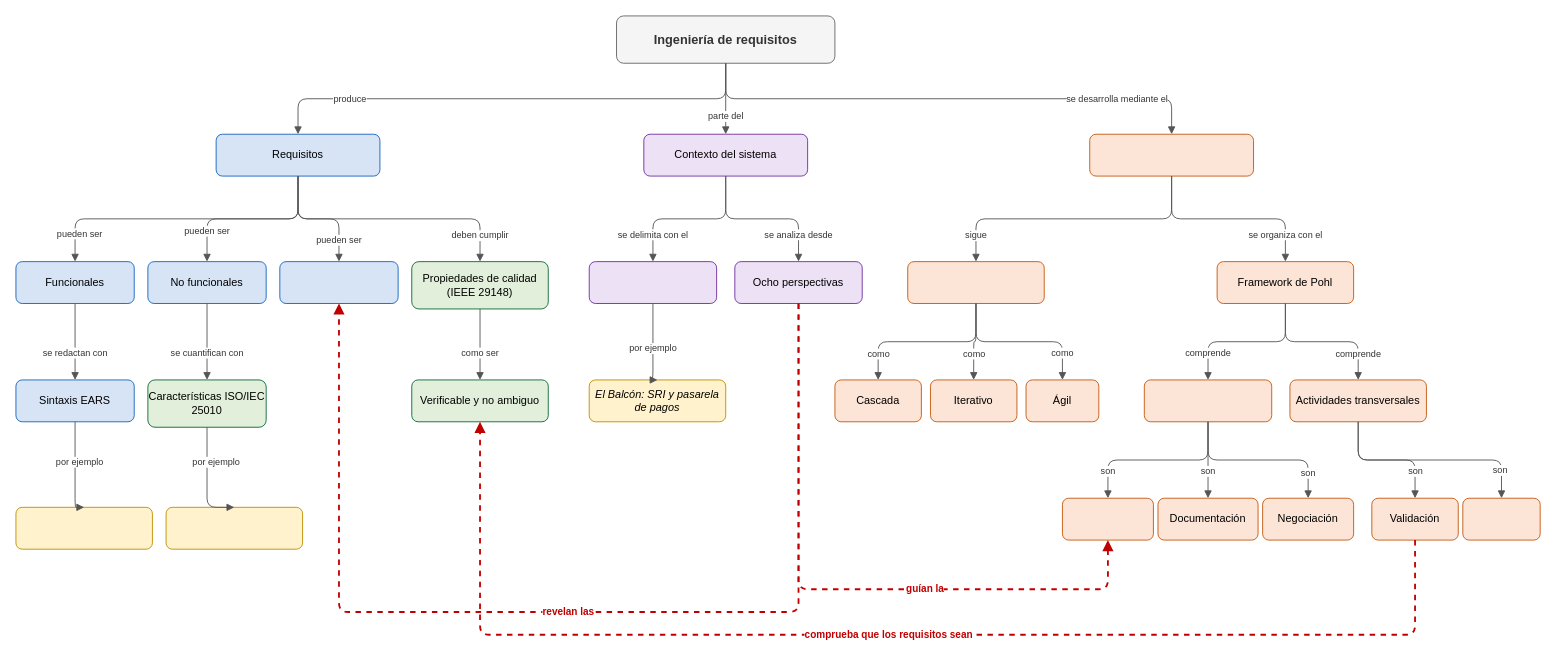
This 1556x660 diagram has some shape labels left out. The shapes that lost their labels are listed below. From the top down, each one's box as (x1, y1, x2, y2) in pixels, then its label:
(1089, 133, 1254, 176): Proceso de requisitos
(279, 261, 398, 303): Restricciones
(588, 261, 717, 303): Límite del sistema
(907, 261, 1044, 303): Modelos de proceso
(1143, 379, 1272, 422): Actividades centrales
(15, 506, 152, 549): RF-01: enviar pedidos a cocina
(165, 506, 303, 549): RNF-03: disponibilidad del 99,5 %
(1062, 497, 1153, 540): Obtención
(1462, 497, 1540, 540): Gestión
